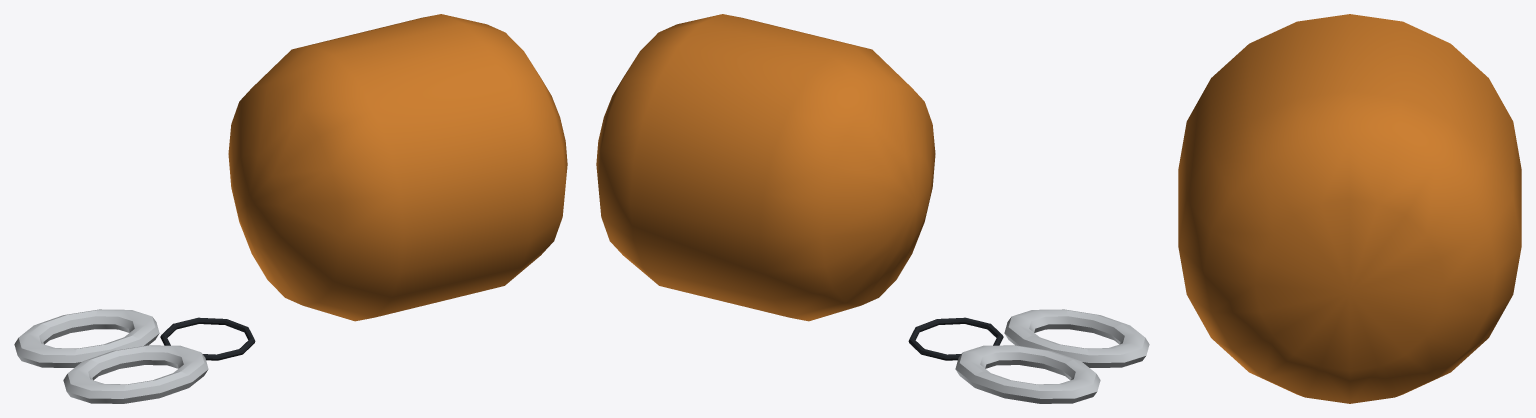
Rendered from hammock_camping_packed.glb.
3 views of the same model, side by side, from view 1: azimuth 30°, elevation 25°; view 2: azimuth 150°, elevation 25°; view 3: azimuth 270°, elevation 25° (orthographic). The views are drawn at different scales.
Visible parts, largest first — view 1: hammock_camping_packed; view 2: hammock_camping_packed; view 3: hammock_camping_packed.
Boxes of the visible parts, x1,y1,x2,y2 form: hammock_camping_packed: (14, 14, 567, 403); hammock_camping_packed: (596, 14, 1149, 403); hammock_camping_packed: (1178, 14, 1521, 403).
Size of the model in its own units: 0.2584 by 0.127 by 0.127.
